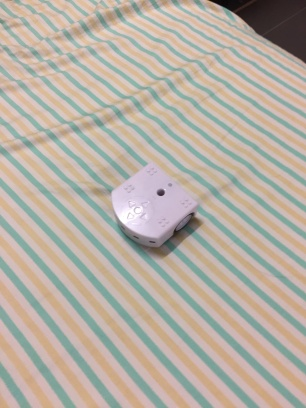thymio: (102, 159, 203, 252)
